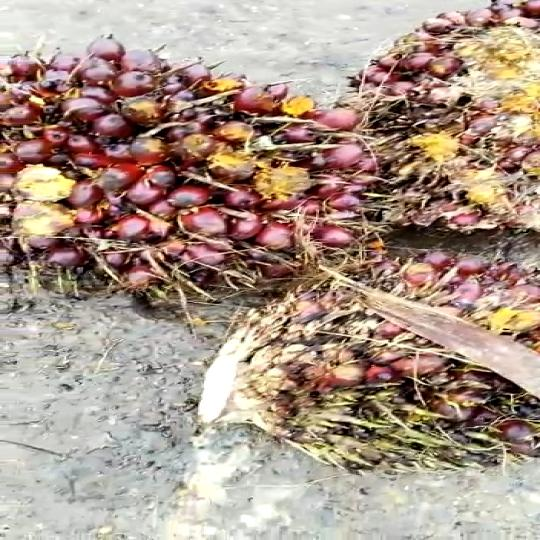masak: (0, 39, 396, 312), (191, 252, 540, 464)
